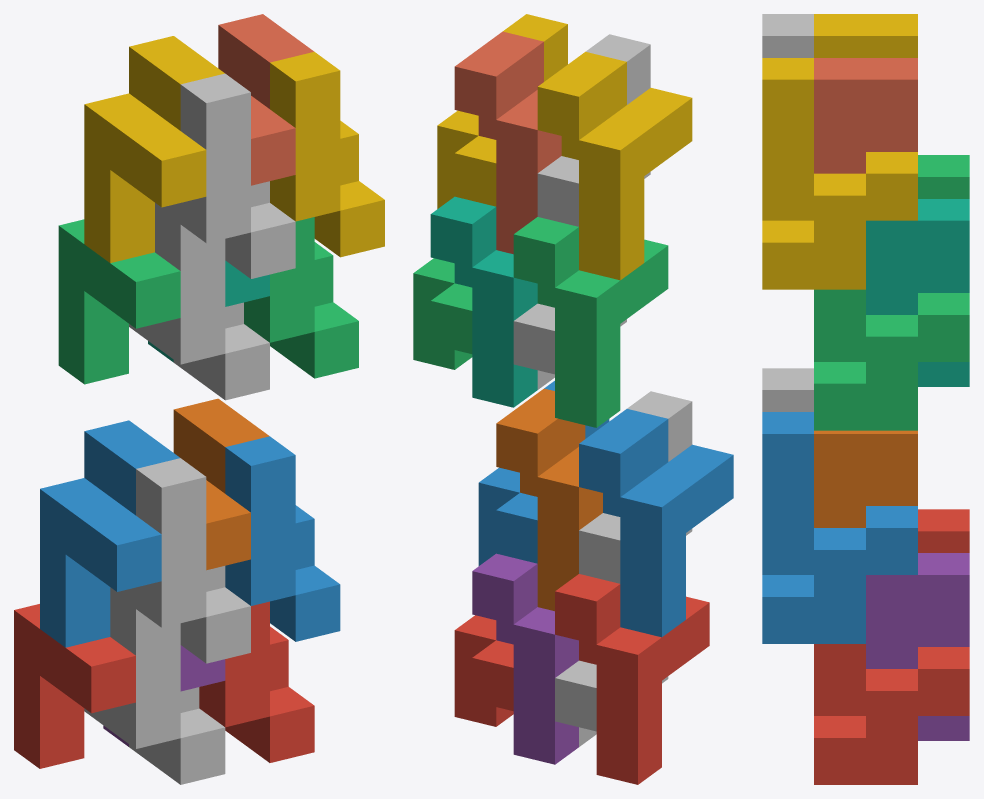
The model's file is tiling.obj.
3 views of the same model, side by side, from view 1: azimuth 30°, elevation 25°; view 2: azimuth 150°, elevation 25°; view 3: azimuth 270°, elevation 25° (orthographic). The views are drawn at different scales.
Visible parts, largest first — view 1: copy_1_domain_4, copy_1_domain_2, copy_2_domain_6, copy_2_domain_8, copy_2_domain_2, copy_2_domain_4, copy_1_domain_3, copy_1_domain_1, copy_2_domain_1, copy_2_domain_3, copy_2_domain_7, copy_2_domain_5 (+4 smaller); view 2: copy_1_domain_4, copy_1_domain_2, copy_1_domain_3, copy_1_domain_1, copy_1_domain_8, copy_1_domain_7, copy_1_domain_5, copy_1_domain_6, copy_2_domain_8, copy_2_domain_5, copy_2_domain_7, copy_2_domain_6 (+4 smaller); view 3: copy_2_domain_8, copy_2_domain_6, copy_2_domain_7, copy_2_domain_5, copy_1_domain_7, copy_1_domain_5, copy_1_domain_8, copy_1_domain_6, copy_1_domain_4, copy_1_domain_1, copy_1_domain_3, copy_2_domain_2 (+1 smaller).
Boxes of the visible parts, x1=… form: copy_1_domain_4: x1=84, y1=36, x2=224, y2=263; copy_1_domain_2: x1=40, y1=420, x2=179, y2=647; copy_2_domain_6: x1=225, y1=436, x2=340, y2=641; copy_2_domain_8: x1=270, y1=51, x2=384, y2=257; copy_2_domain_2: x1=110, y1=458, x2=250, y2=663; copy_2_domain_4: x1=155, y1=73, x2=295, y2=278; copy_1_domain_3: x1=58, y1=219, x2=180, y2=384; copy_1_domain_1: x1=14, y1=604, x2=135, y2=768; copy_2_domain_1: x1=84, y1=590, x2=225, y2=784; copy_2_domain_3: x1=129, y1=206, x2=269, y2=400; copy_2_domain_7: x1=244, y1=217, x2=358, y2=378; copy_2_domain_5: x1=199, y1=601, x2=314, y2=762; copy_1_domain_4: x1=537, y1=51, x2=692, y2=280; copy_1_domain_2: x1=579, y1=409, x2=733, y2=637; copy_1_domain_3: x1=513, y1=217, x2=668, y2=427; copy_1_domain_1: x1=555, y1=574, x2=709, y2=784; copy_1_domain_8: x1=454, y1=31, x2=561, y2=254; copy_1_domain_7: x1=430, y1=196, x2=537, y2=407; copy_1_domain_5: x1=472, y1=553, x2=578, y2=764; copy_1_domain_6: x1=496, y1=388, x2=602, y2=611; copy_2_domain_8: x1=437, y1=14, x2=567, y2=208; copy_2_domain_5: x1=454, y1=615, x2=513, y2=726; copy_2_domain_7: x1=413, y1=258, x2=472, y2=369; copy_2_domain_6: x1=478, y1=381, x2=609, y2=565; copy_2_domain_8: x1=762, y1=58, x2=917, y2=289; copy_2_domain_6: x1=762, y1=412, x2=917, y2=643; copy_2_domain_7: x1=814, y1=289, x2=969, y2=430; copy_2_domain_5: x1=814, y1=644, x2=969, y2=784; copy_1_domain_7: x1=866, y1=199, x2=969, y2=386; copy_1_domain_5: x1=866, y1=553, x2=969, y2=740; copy_1_domain_8: x1=814, y1=58, x2=917, y2=173; copy_1_domain_6: x1=814, y1=430, x2=917, y2=527; copy_1_domain_4: x1=814, y1=14, x2=917, y2=57; copy_1_domain_1: x1=918, y1=509, x2=969, y2=552; copy_1_domain_3: x1=918, y1=155, x2=969, y2=198; copy_2_domain_2: x1=762, y1=368, x2=813, y2=411.
Bounding box in the file's own units: 6 × 15 × 4.
